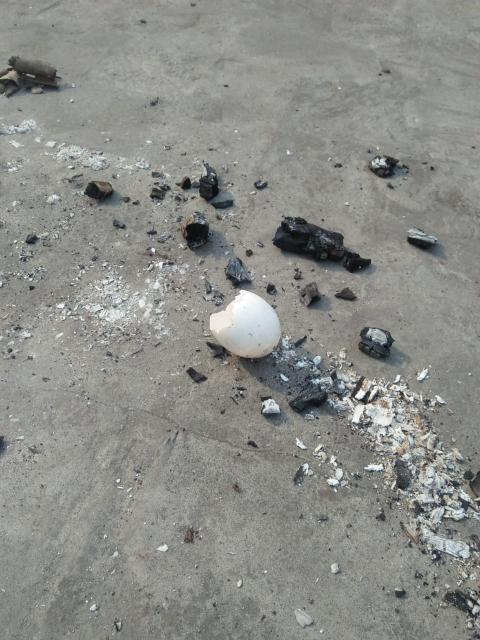Roto: (208, 288, 281, 359)
